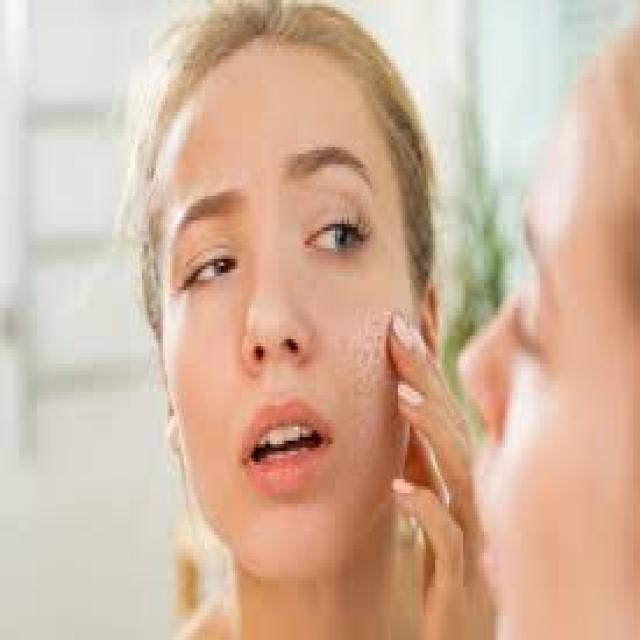Dry-Skin: (180, 63, 240, 160), (145, 88, 184, 160), (350, 376, 381, 422), (350, 318, 378, 343)
